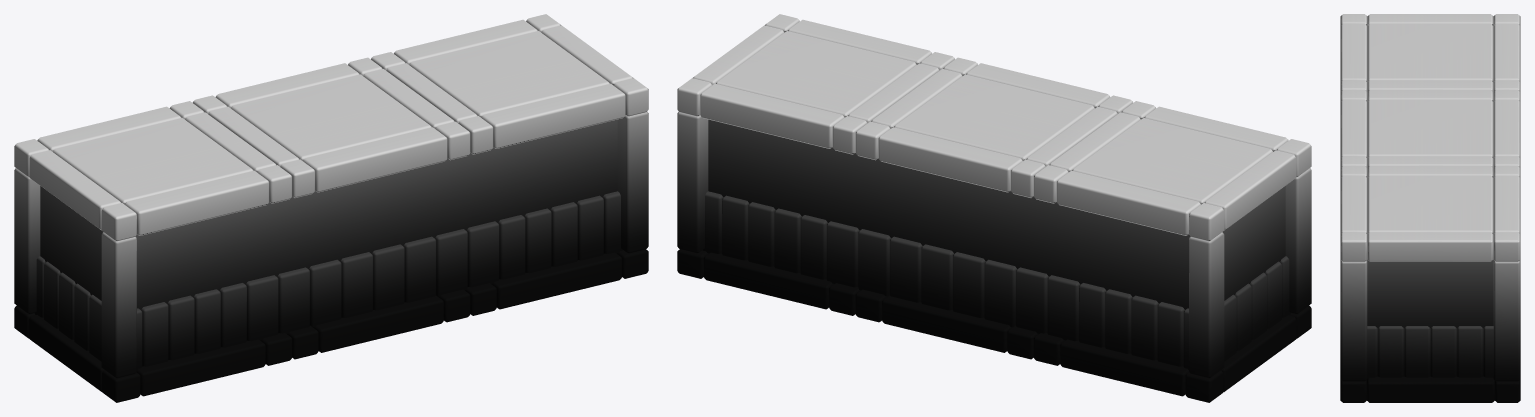
File: SM_Wood_Body_05.fbx
The picture shows the model from 3 angles, left to right: view 1: azimuth 30°, elevation 25°; view 2: azimuth 150°, elevation 25°; view 3: azimuth 270°, elevation 25°; orthographic projection. The views are drawn at different scales.
Parts seen in each view (by area): view 1: SM_Wood_Body_05; view 2: SM_Wood_Body_05; view 3: SM_Wood_Body_05.
Boxes of the visible parts, left/top/right/bottom form: SM_Wood_Body_05: left=14, top=14, right=648, bottom=402; SM_Wood_Body_05: left=677, top=14, right=1311, bottom=402; SM_Wood_Body_05: left=1340, top=14, right=1520, bottom=402.
Size of the model in its own units: 2.99 by 0.9986 by 0.9986.
